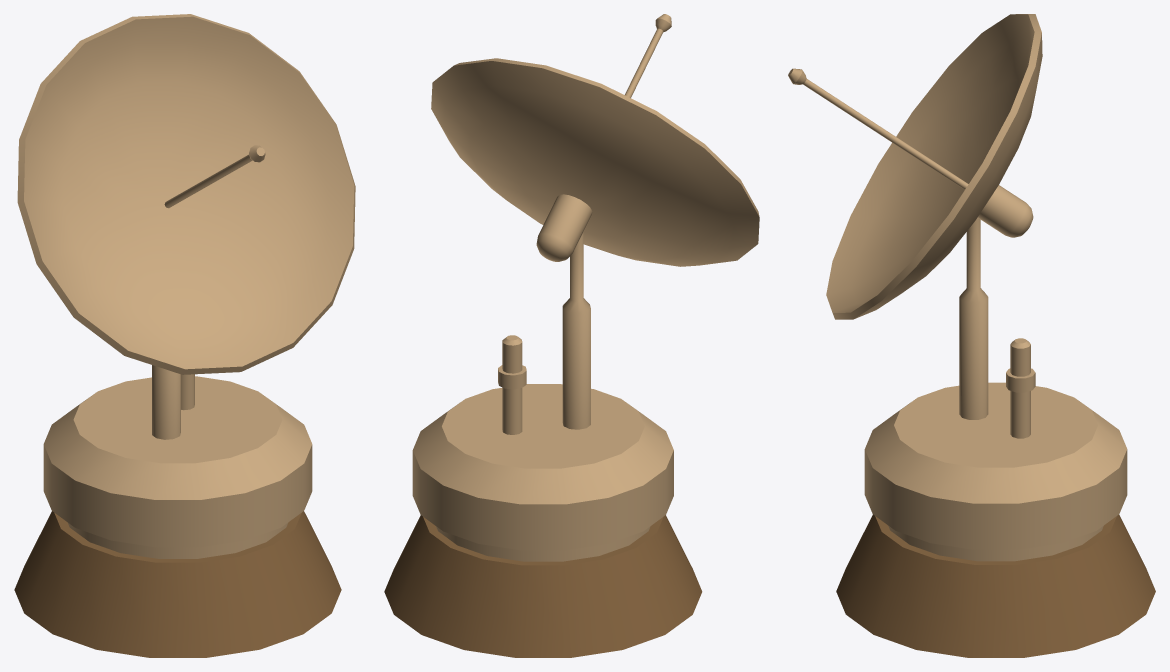
The model's file is decor-radar.glb.
3 renders of one model, left to right at view 1: azimuth 30°, elevation 25°; view 2: azimuth 150°, elevation 25°; view 3: azimuth 270°, elevation 25°, orthographic. The views are drawn at different scales.
Parts seen in each view (by area): view 1: Roof_Radar; view 2: Roof_Radar; view 3: Roof_Radar.
Part boxes in pixels (x1,y1,x2,y2): Roof_Radar: (14,14,355,657); Roof_Radar: (384,14,759,657); Roof_Radar: (788,14,1155,657).
Size of the model in its own units: 1.62 by 2.7 by 1.64.
Materials: 1 (1 with a texture image).
